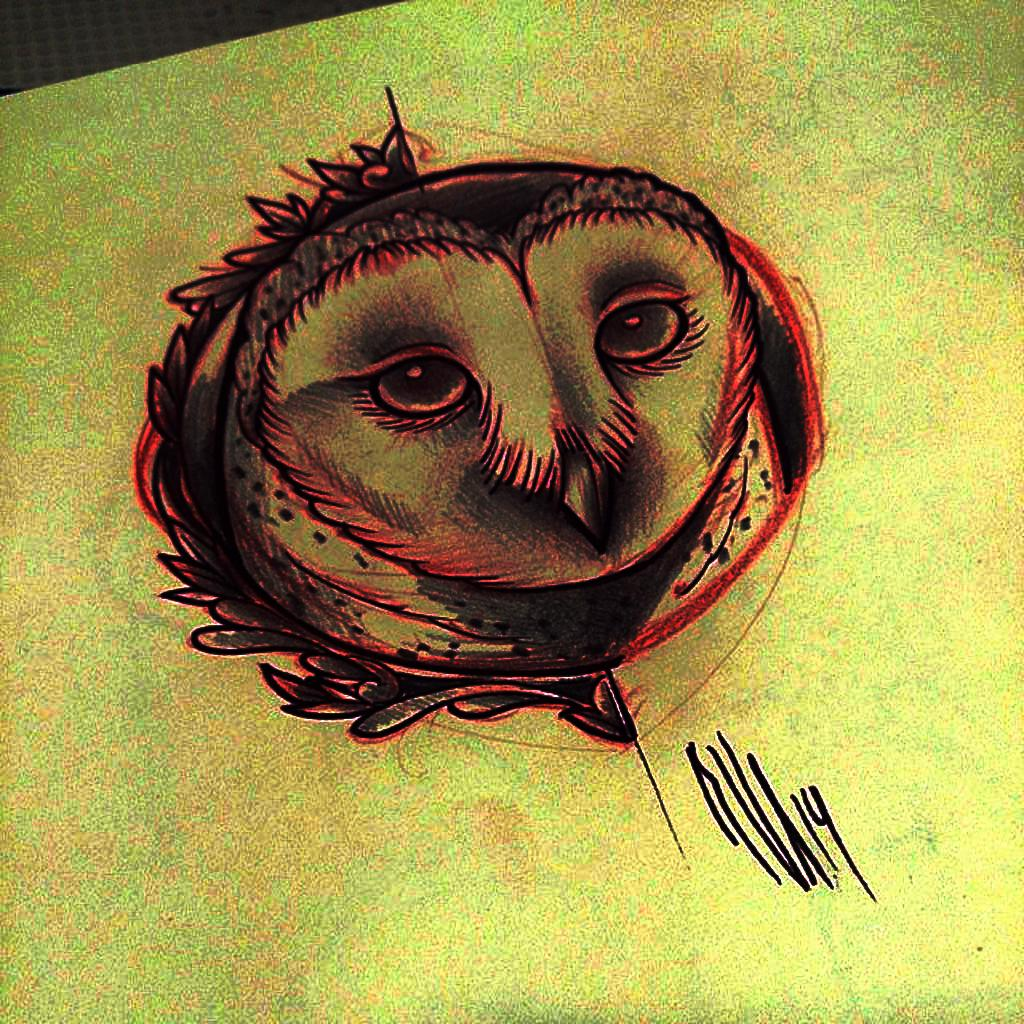Owl: (126, 114, 824, 740)
